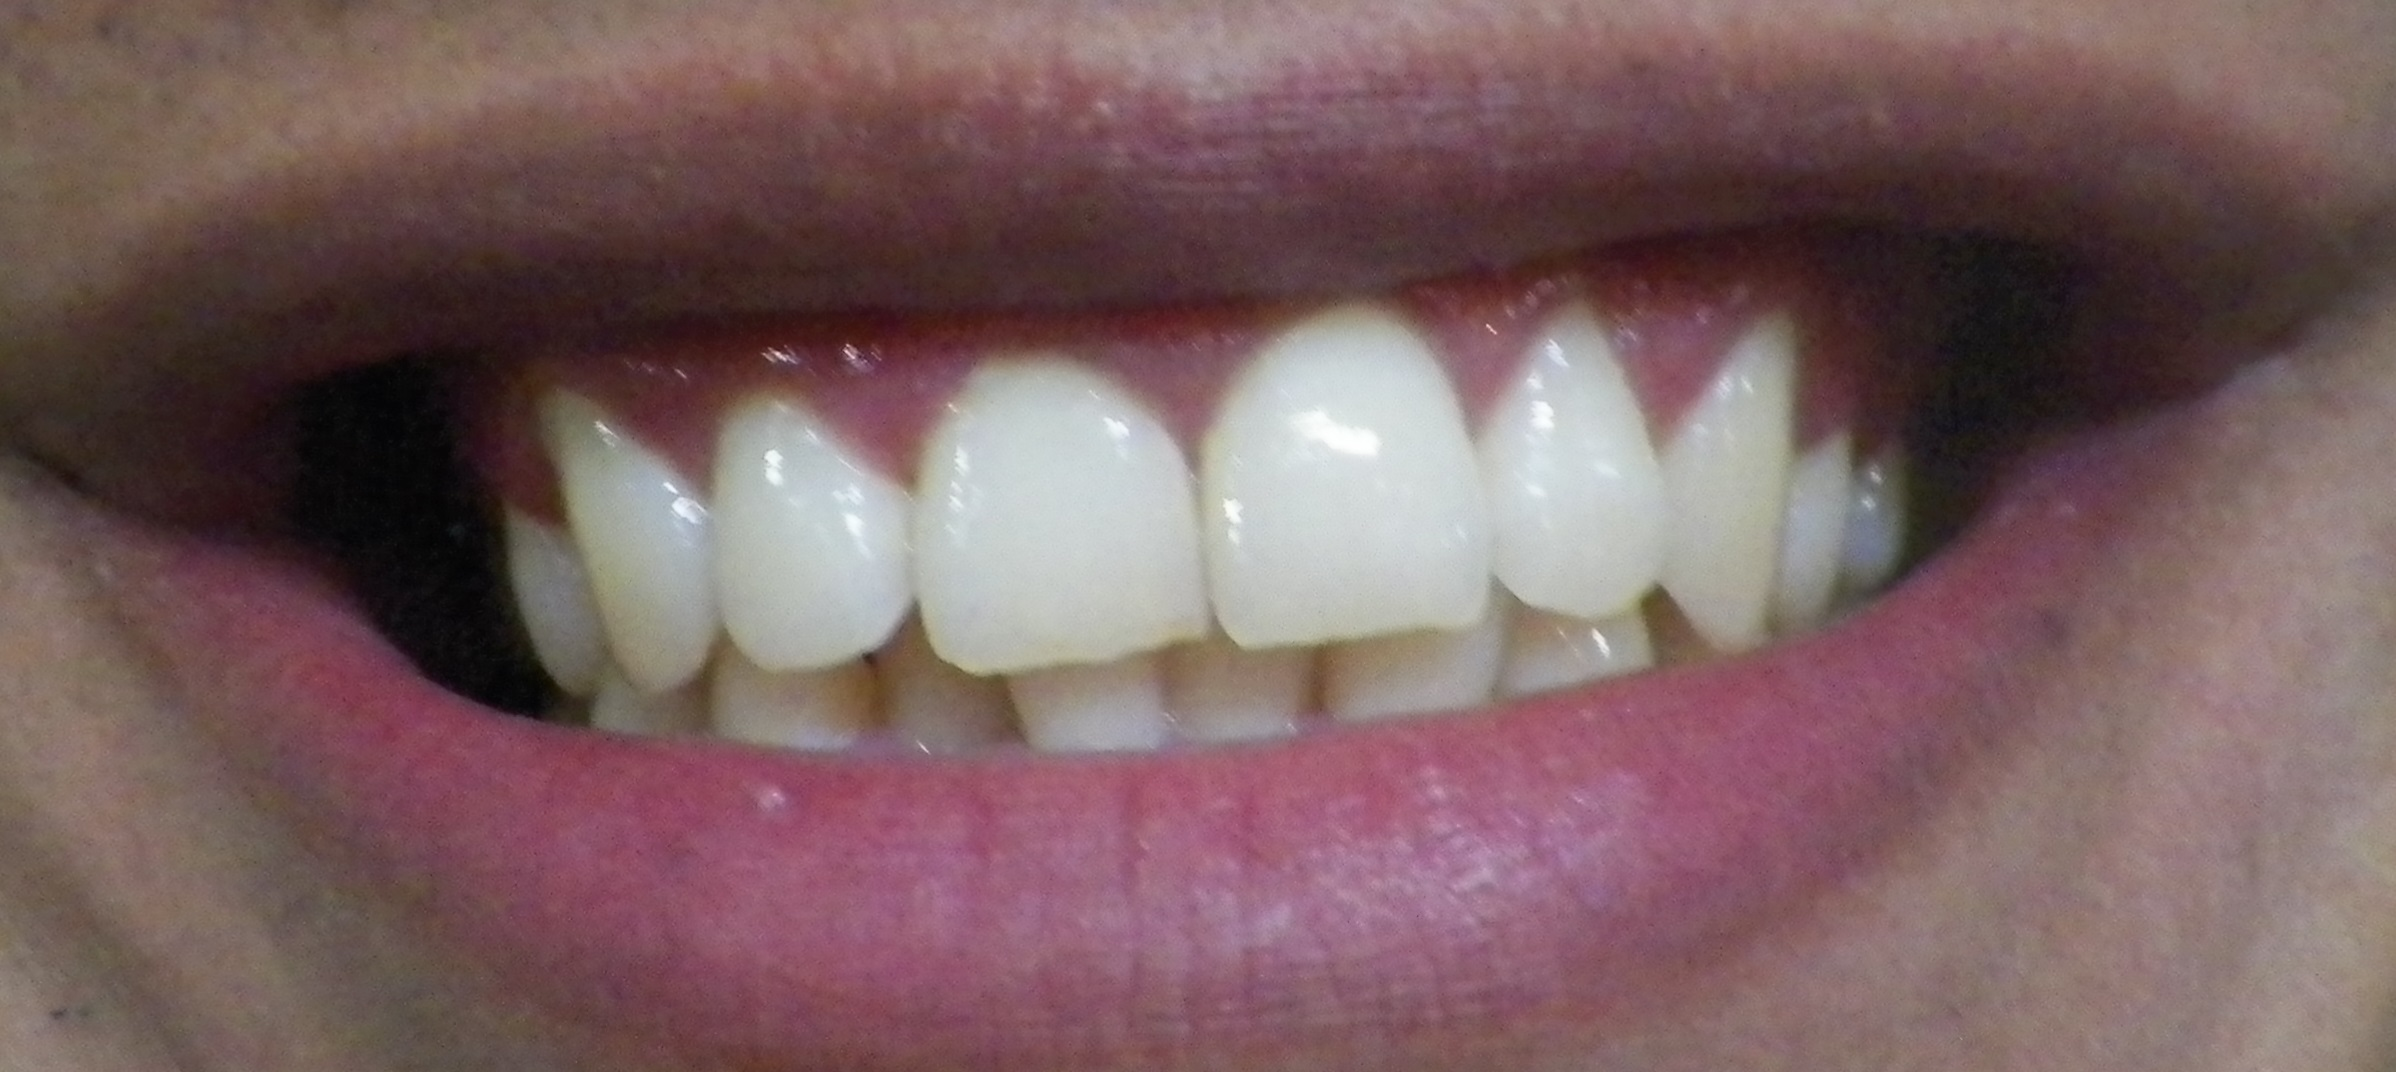boca: (468, 342, 1901, 745)
